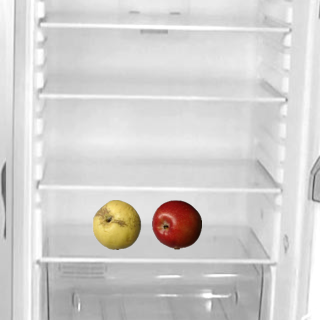Apple Braeburn: (151, 199, 201, 249)
Apple Golden 1: (91, 199, 141, 249)
